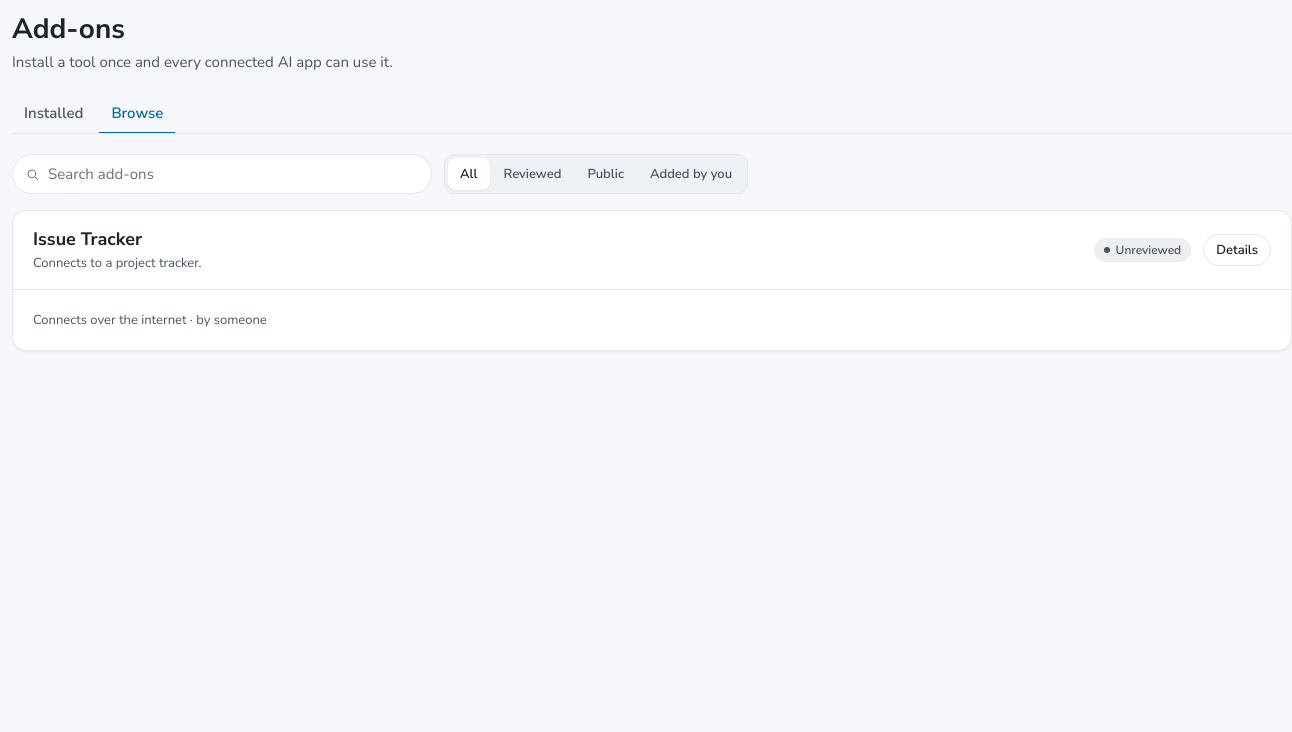
Test: Add-ons (SPEC-304, issue 570) › shows permissions and a stronger warning for an unverified entry, gated behind consent
Click the button "Details" at (1237, 250), box [1203,234,1271,266]
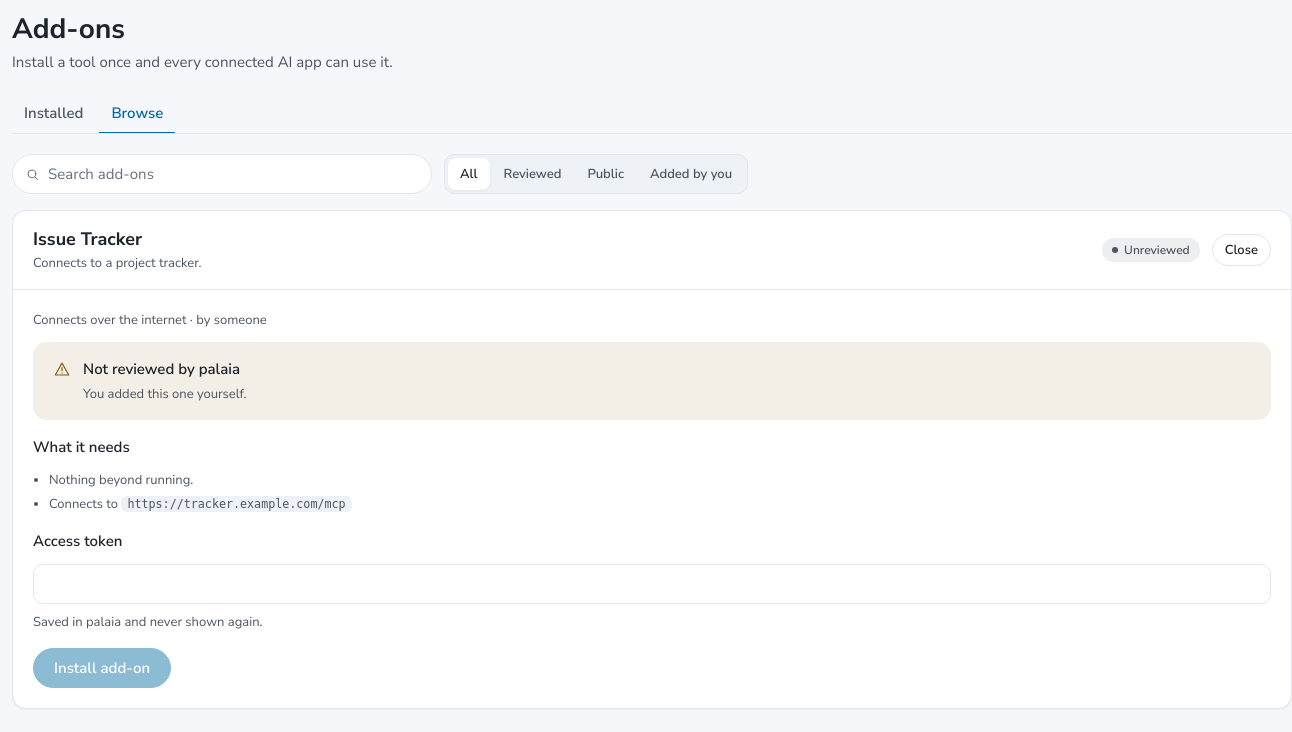
expect the text "You added this one yourself." is shown: met, box [83,385,246,403]
expect the text "Not reviewed by palaia" is shown: met, box [83,359,240,379]
expect the button "Install add-on" is disabled: met, box [33,648,171,688]
